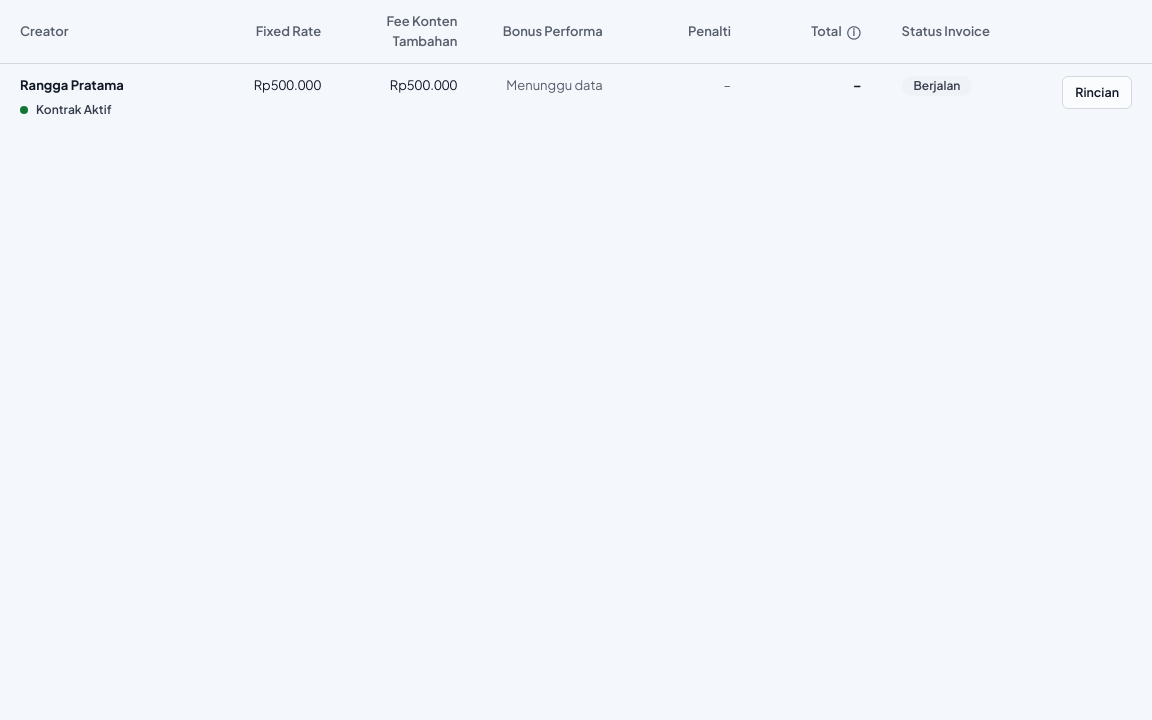
Test: InvoiceBoard › confirms a move made in Rincian with a toast and reads the invoices again
Click the button with aria-label "Rincian invoice Rangga Pratama" at coordinates (1097, 92), box x1=1062 y1=76 x2=1132 y2=109
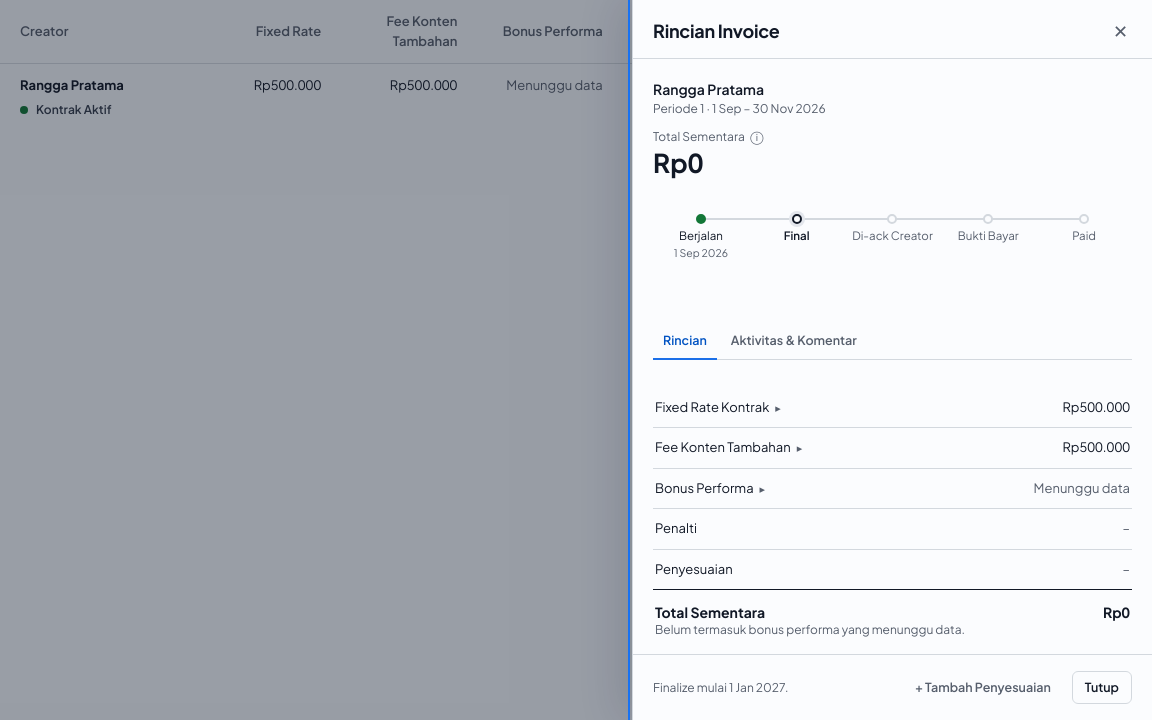
Click the button "+ Tambah Penyesuaian" at coordinates (983, 688), box x1=902 y1=671 x2=1064 y2=704
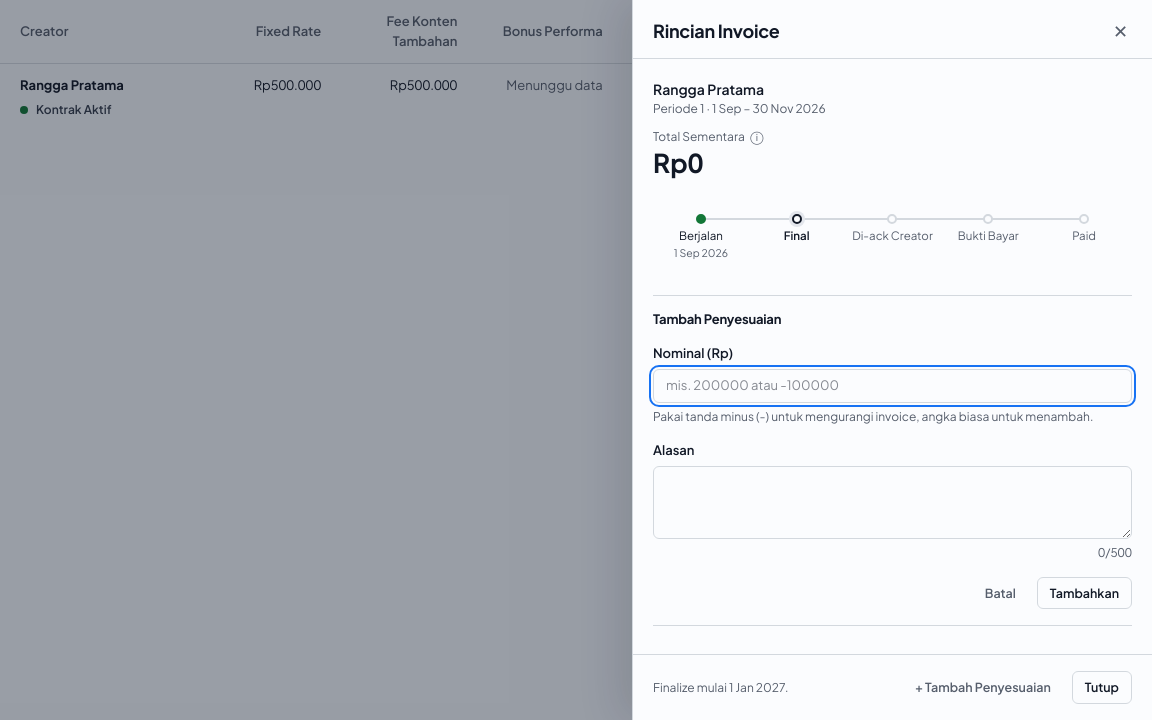
Type "50000" into the field labelled "Nominal (Rp)" at coordinates (892, 386), box x1=653 y1=369 x2=1132 y2=403
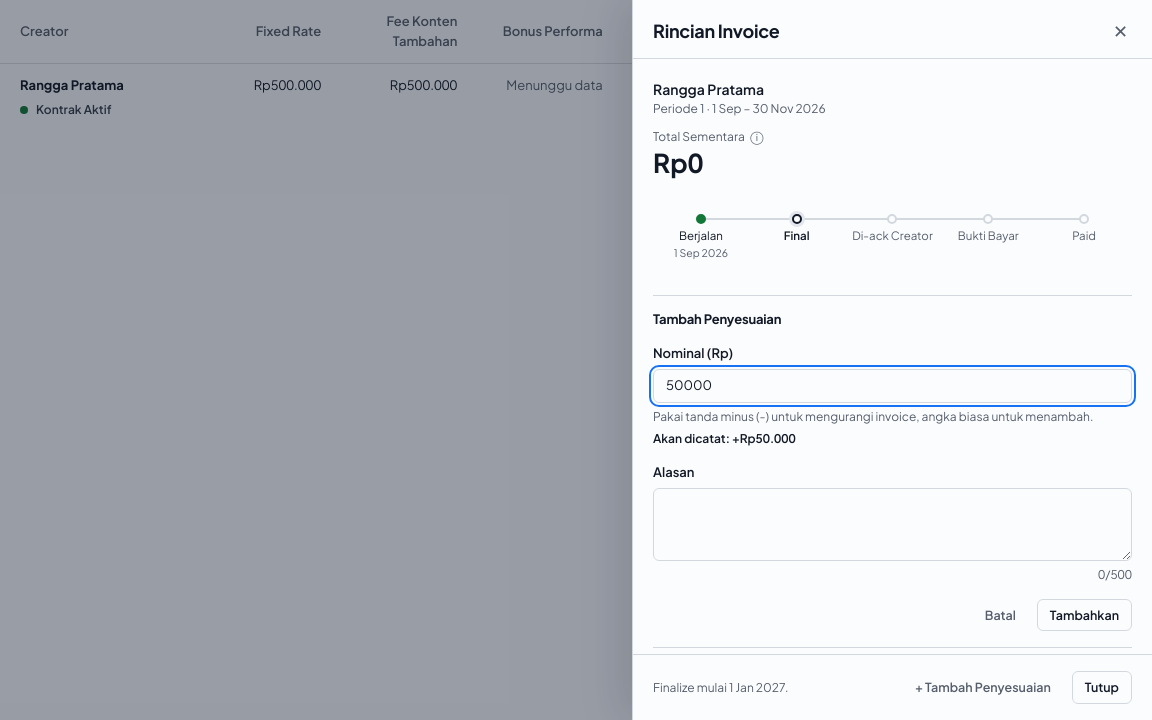
Type "Ongkir" into the text box labelled "Alasan" at coordinates (892, 524), box x1=653 y1=488 x2=1132 y2=561
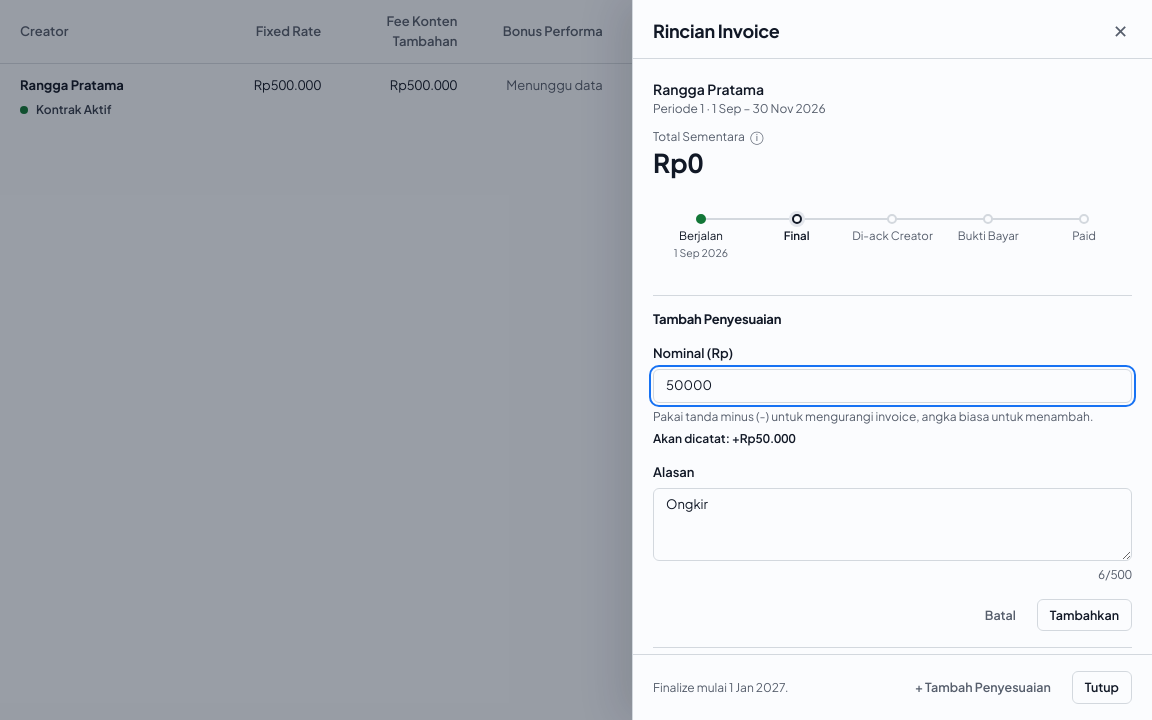
Click the button "Tambahkan" at coordinates (1084, 615), box x1=1037 y1=599 x2=1132 y2=632
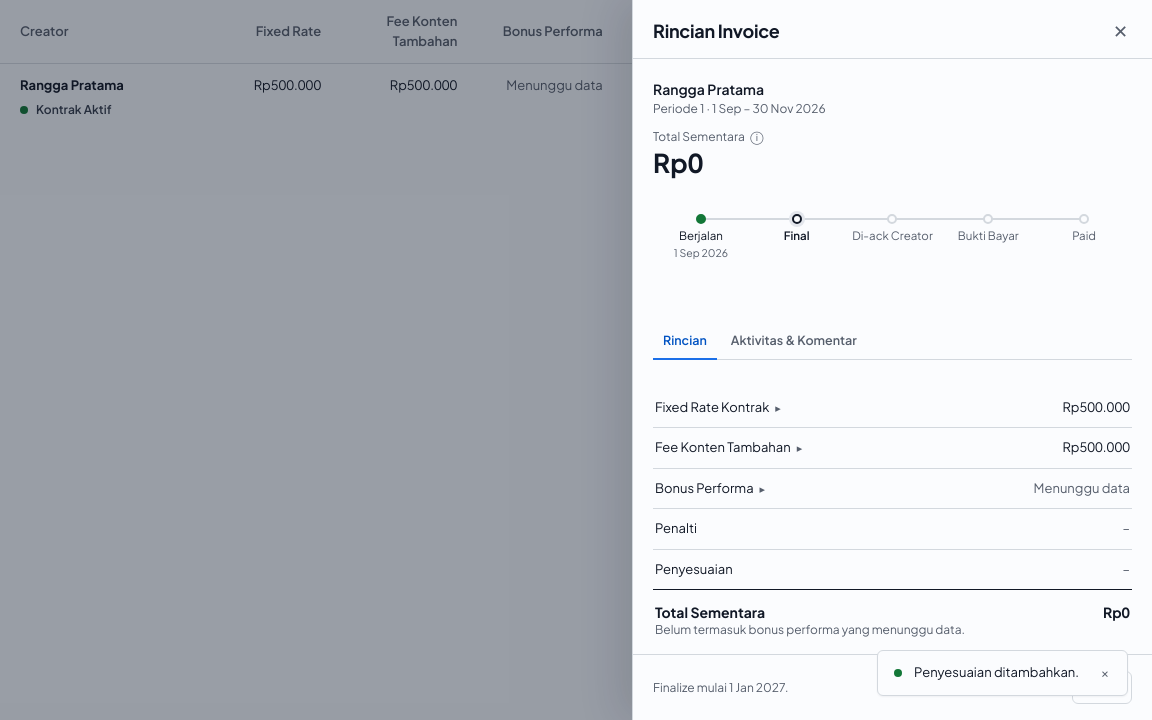
Check: the dialog "Rincian Invoice" is shown, box x1=632 y1=0 x2=1151 y2=719
Check: the text "Penyesuaian ditambahkan." is shown, box x1=914 y1=663 x2=1079 y2=683
